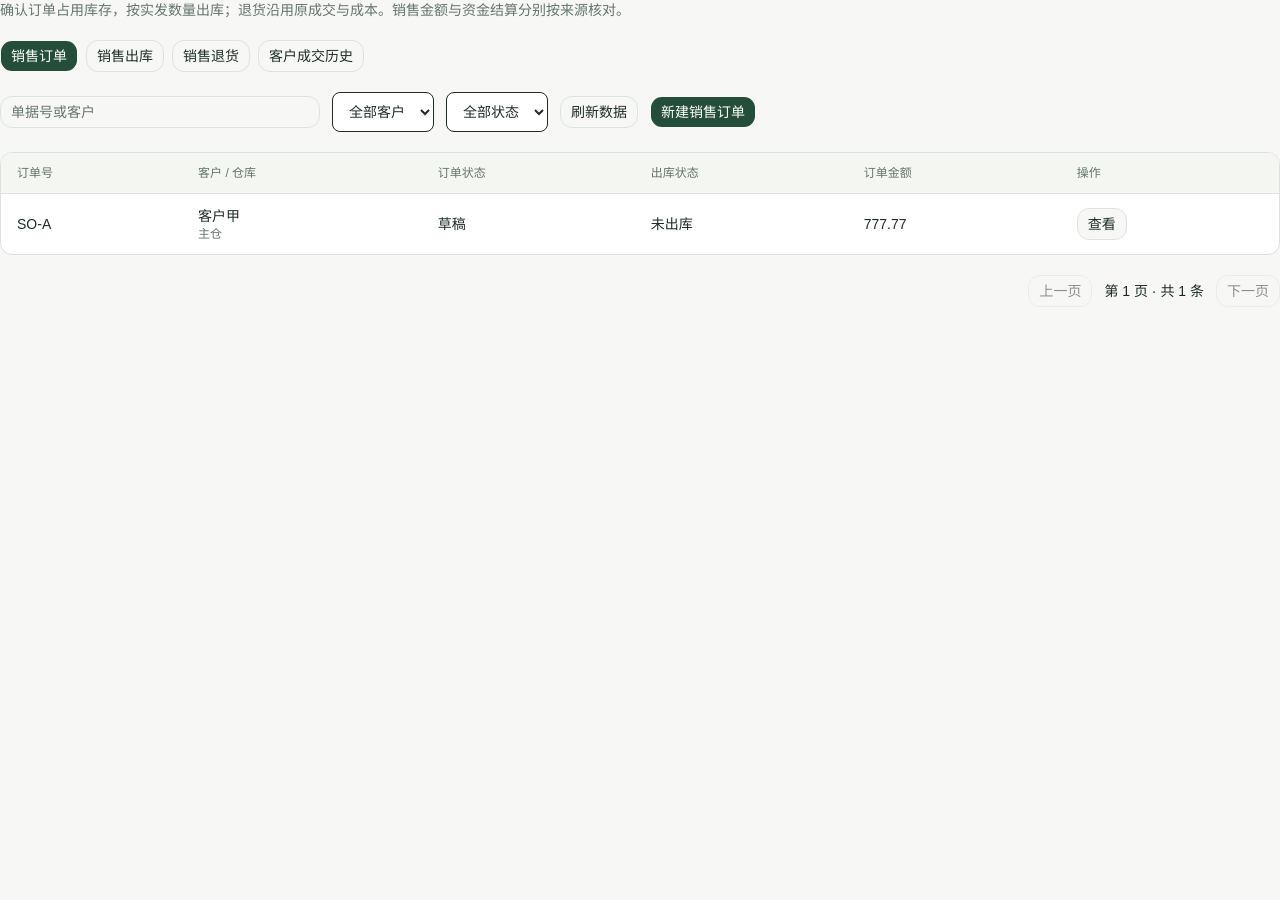
Test: duplicate command clicks and response loss preserve the exact retry key and body
The image size is (1280, 900).
Click the button "查看". click: (1102, 224)
box: [1077,208,1127,240]
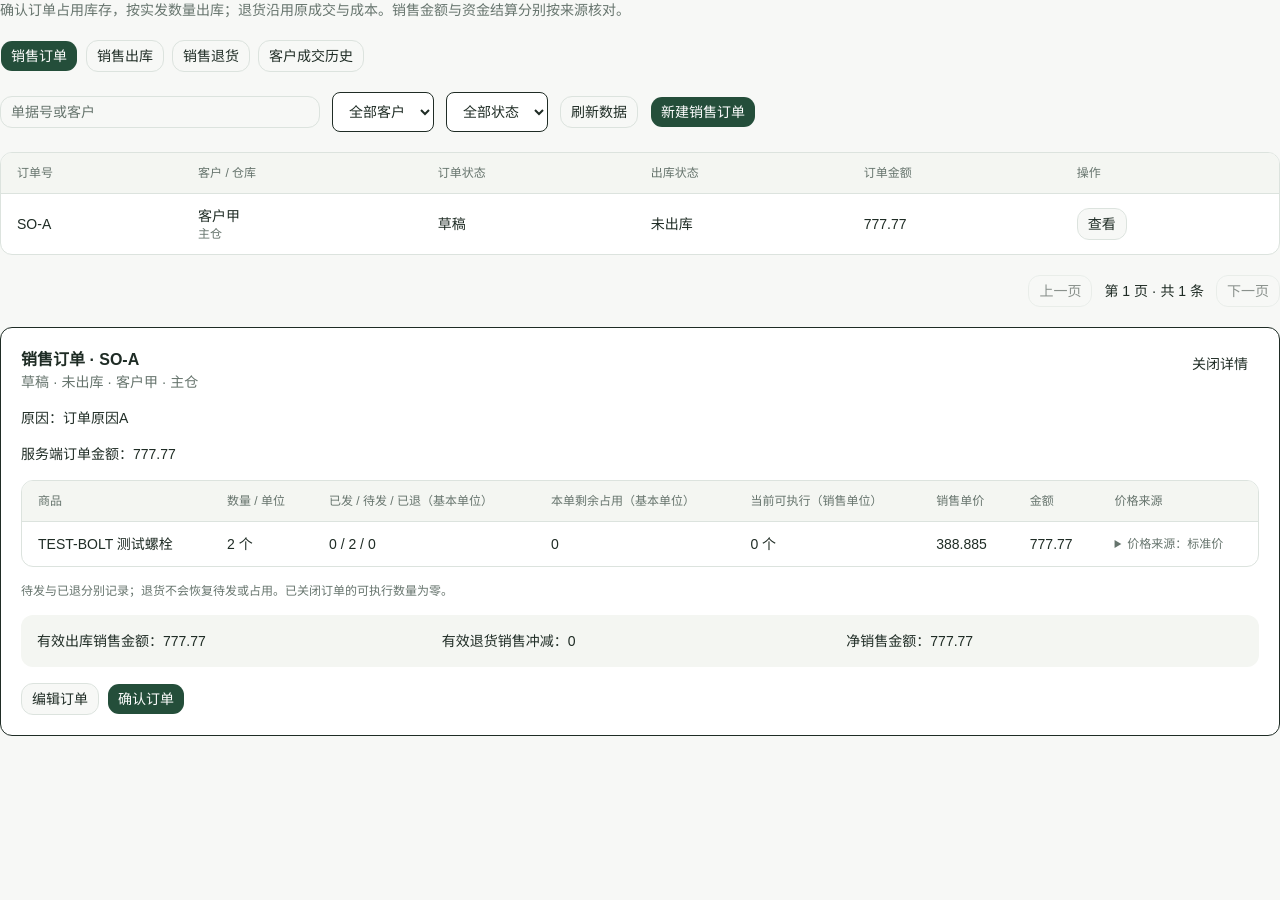
Click the button "确认订单". click: (146, 699)
box: [107,683,185,715]
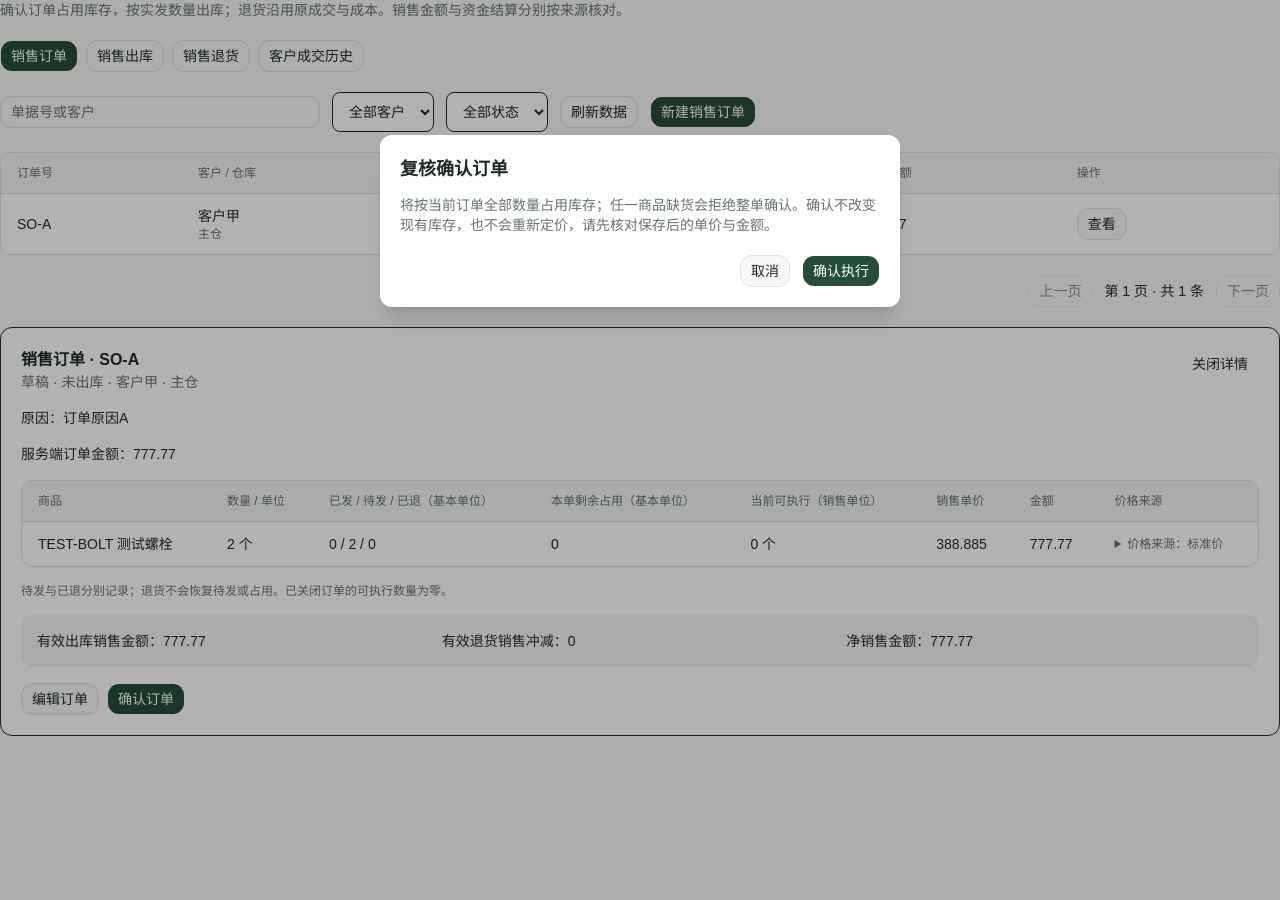
Click the button "确认执行". click: (841, 271)
box: [802,255,880,287]
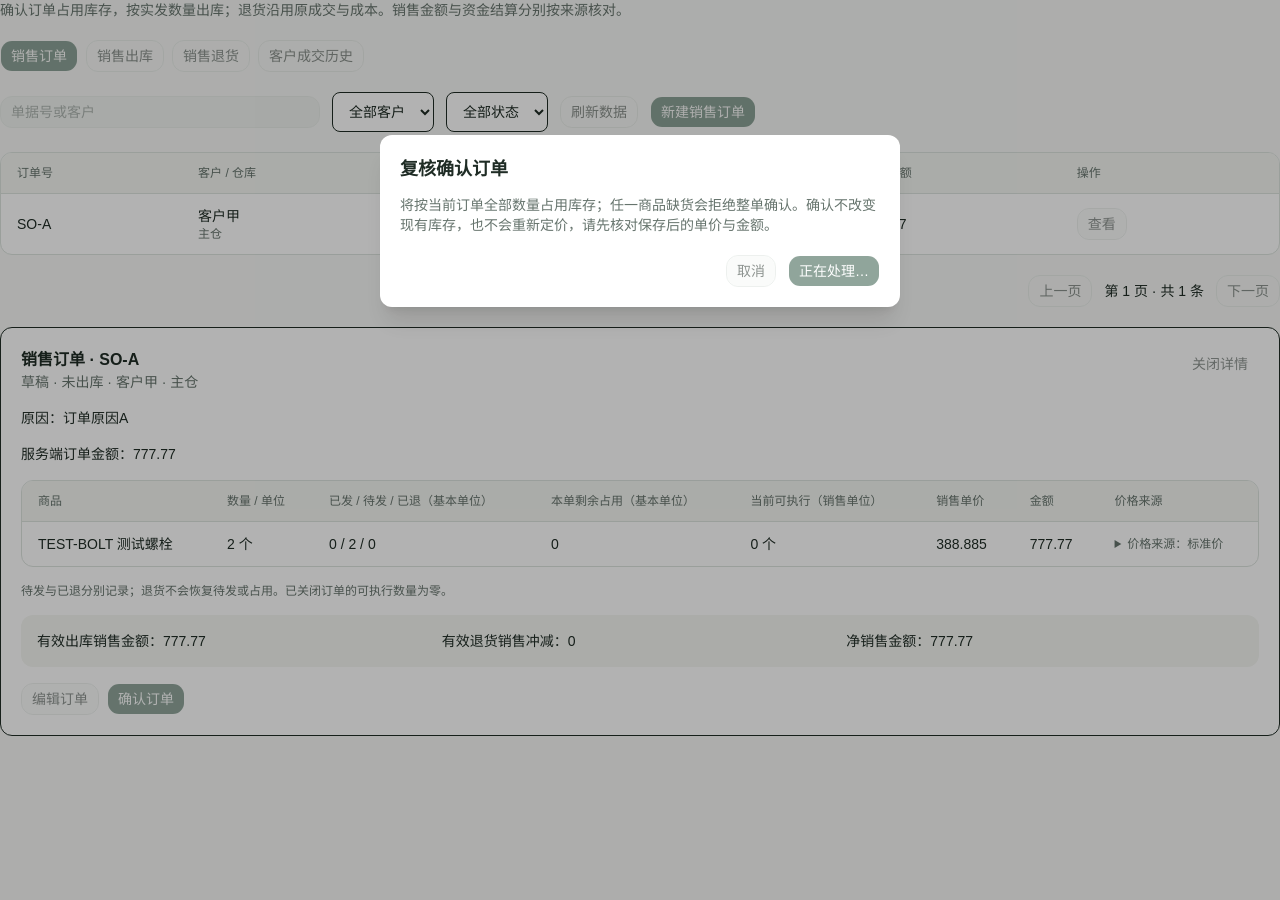
Click the button named "确认执行". click: (834, 271)
box: [788,255,880,287]
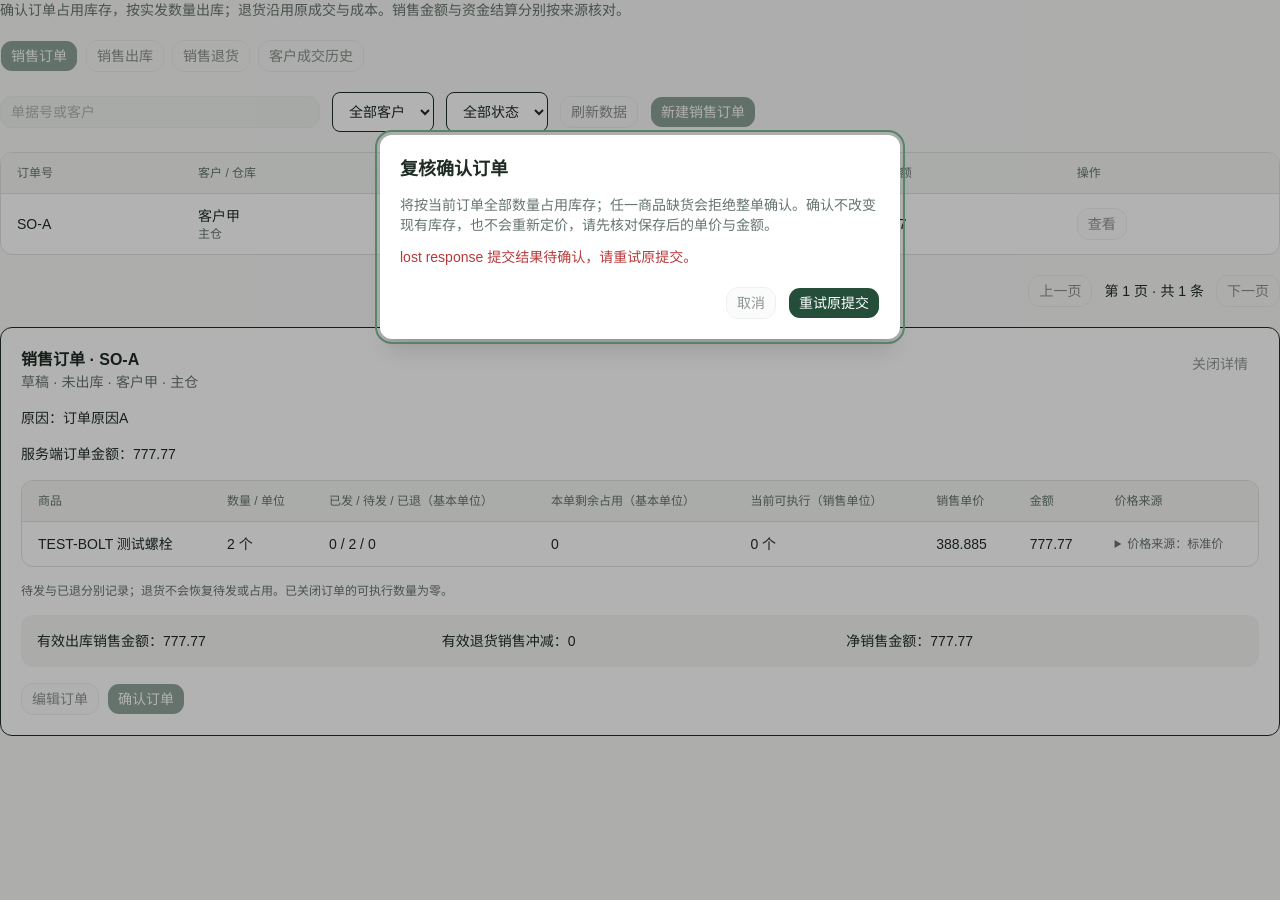
Expected: the text "lost response 提交结果待确认，请重试原提交。" is shown, [400,249,697,265]
Click the button "重试原提交". click: (834, 303)
box: [788,287,880,319]
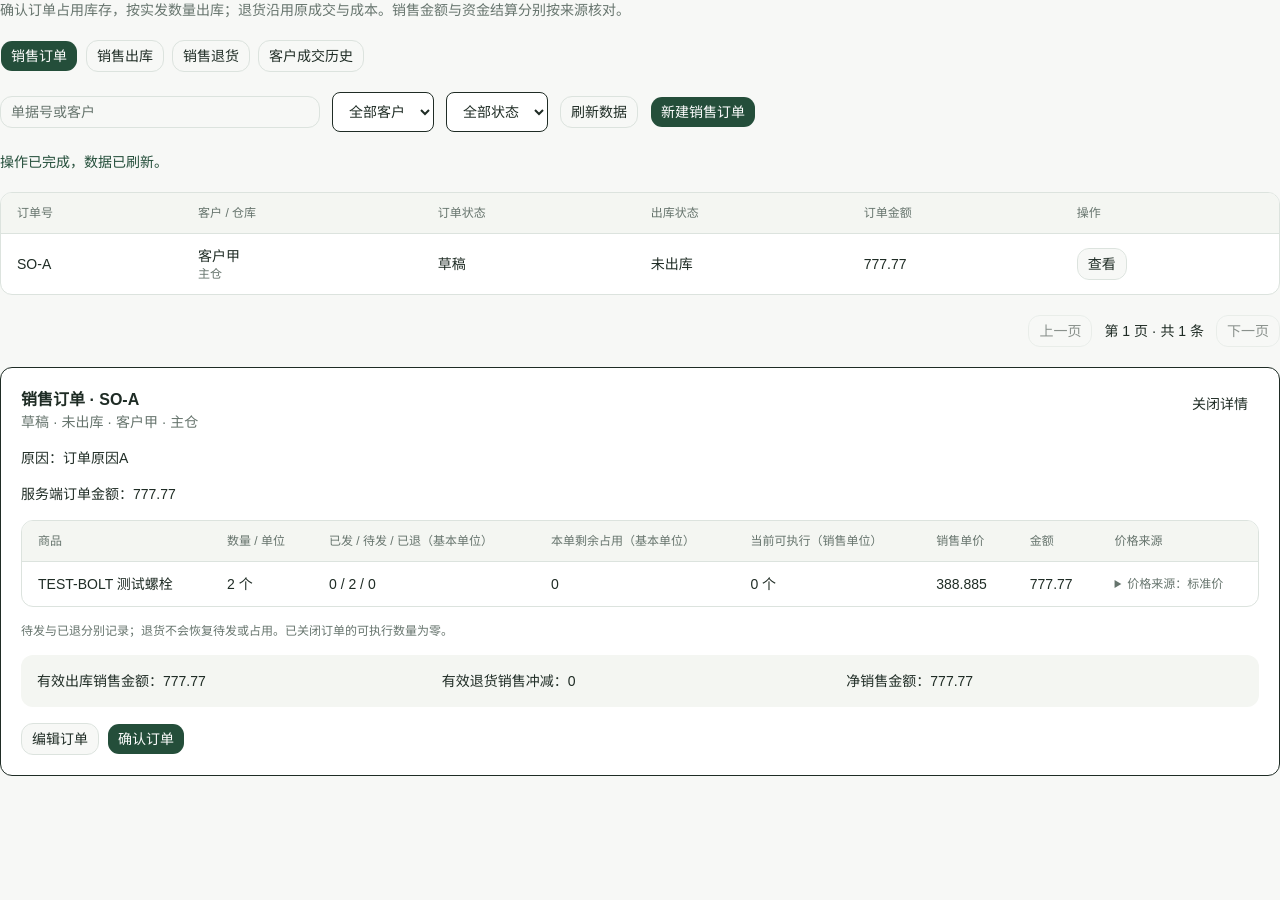
Expected: the dialog is gone
